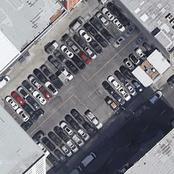parkingspot: (0, 1, 123, 118), (10, 13, 133, 128), (87, 41, 155, 109), (44, 112, 105, 172), (36, 101, 92, 159), (104, 77, 147, 116), (131, 90, 165, 123)
